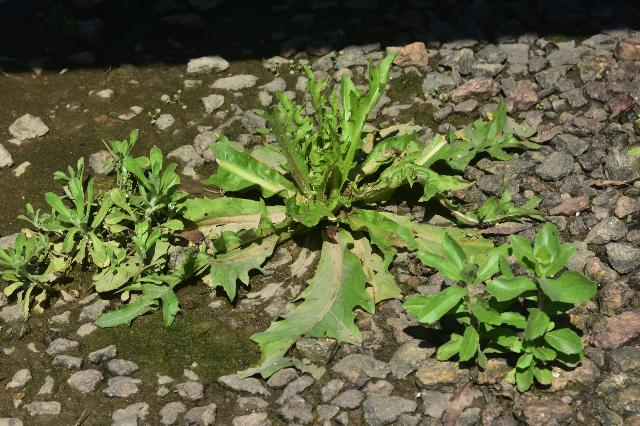MalezaMontesDelPlata: (185, 45, 525, 359), (496, 217, 588, 395), (107, 131, 185, 330), (410, 234, 513, 372), (31, 155, 116, 268), (2, 235, 66, 326)
